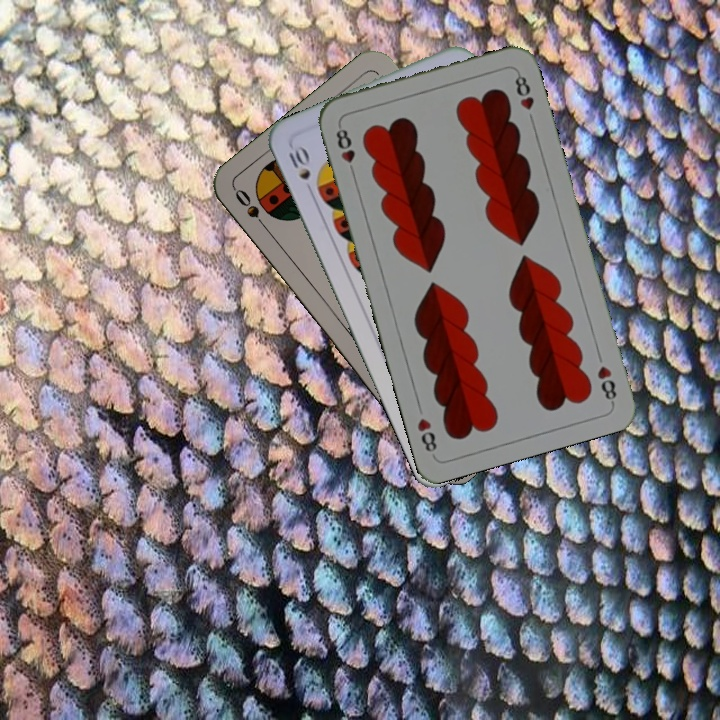H8: (332, 121, 358, 179), (593, 361, 619, 406)
S10: (284, 142, 316, 198)
SO: (230, 184, 273, 236)
